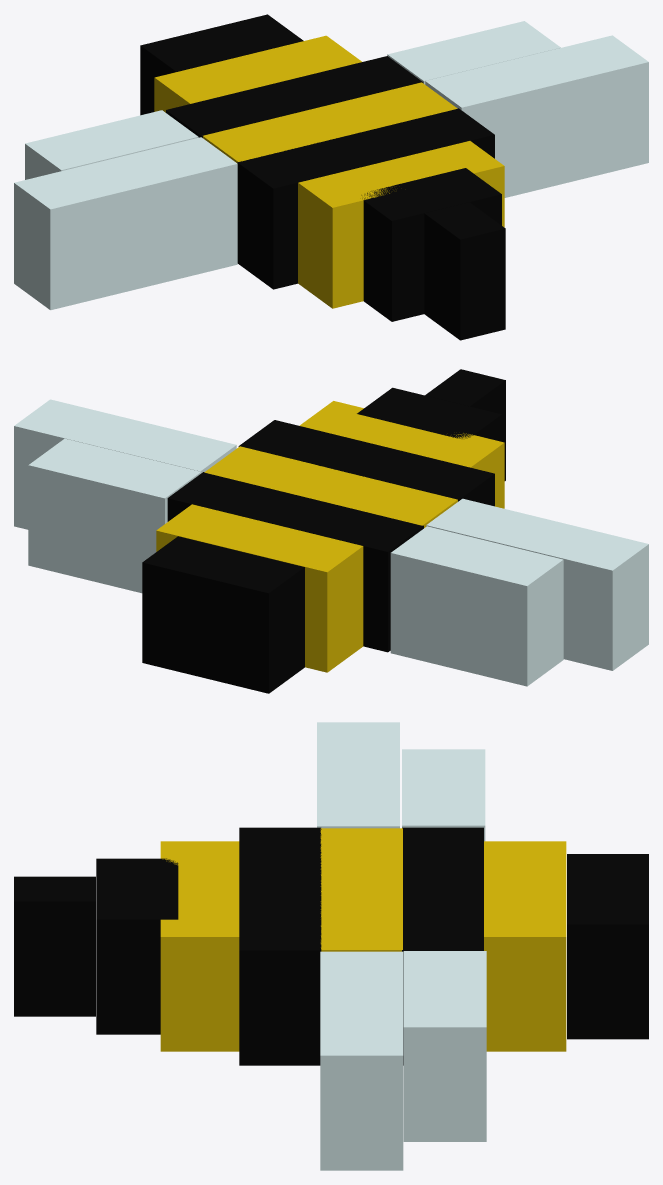
The model's file is Bee_Level5.FBX.
3 views of the same model, one above another, from view 1: azimuth 30°, elevation 25°; view 2: azimuth 150°, elevation 25°; view 3: azimuth 270°, elevation 25° (orthographic). The views are drawn at different scales.
Parts seen in each view (by area): view 1: Bee_Level5; view 2: Bee_Level5; view 3: Bee_Level5.
Boxes of the visible parts, x1,y1,x2,y2 form: Bee_Level5: (14,14,648,340); Bee_Level5: (14,369,648,693); Bee_Level5: (14,722,648,1170).
Bounding box in the file's own units: 1.87 × 0.3012 × 1.5.
